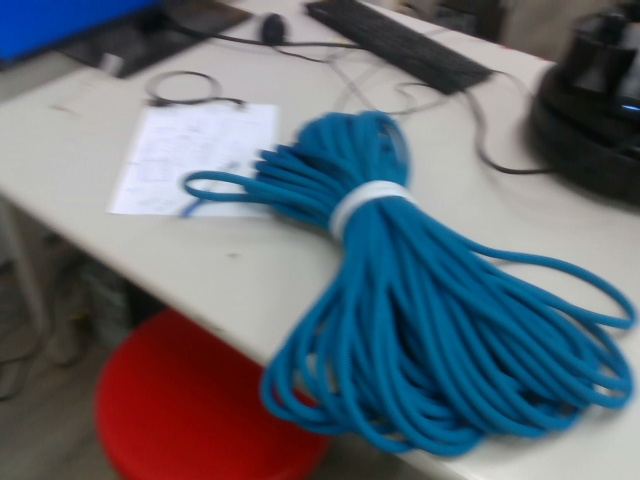rope: (175, 107, 640, 463)
